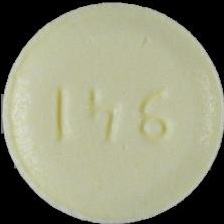0555-9008: (0, 0, 224, 224)
